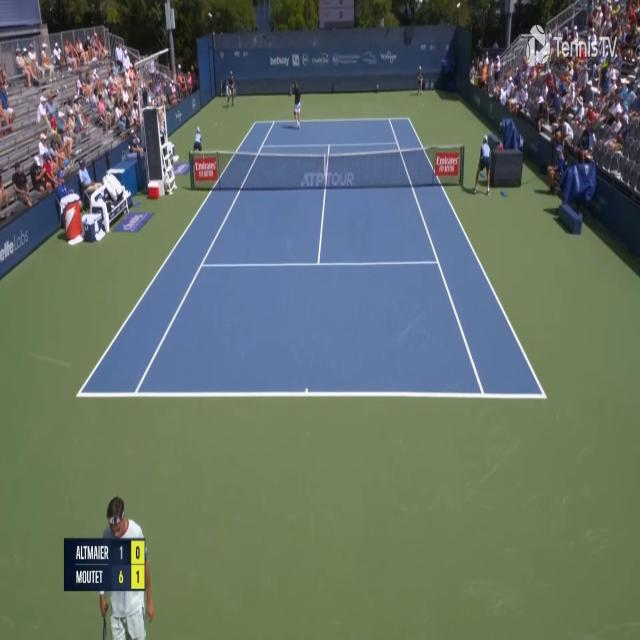tennis-player: (93, 489, 157, 640), (288, 80, 302, 130)
